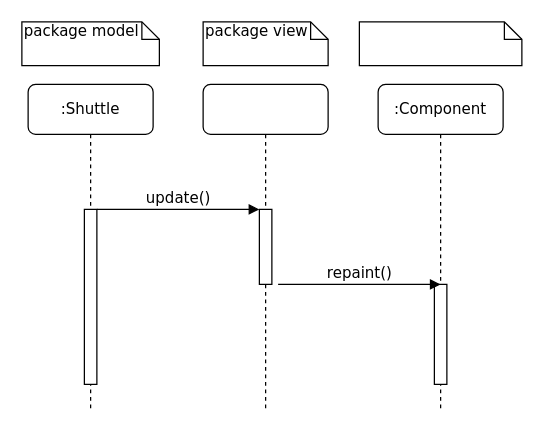
The diagram is 544 pixels wide and 431 high, and some of its shapes have lost their labels. The box of each missing label's shape, as (x1, y1, x2, y2) in pixels:
:GameView: (202, 83, 328, 409)
package java.awt: (358, 21, 522, 66)
